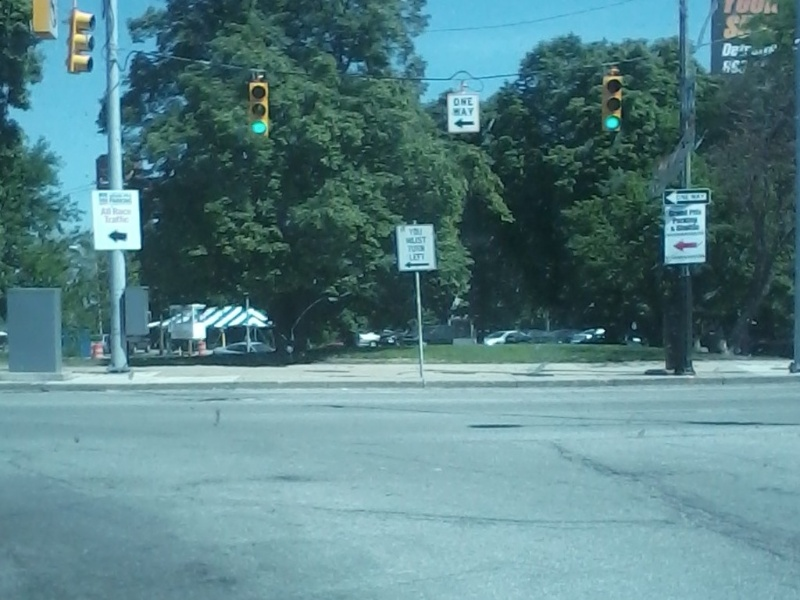green_light: (237, 118, 281, 153), (595, 112, 626, 136)
